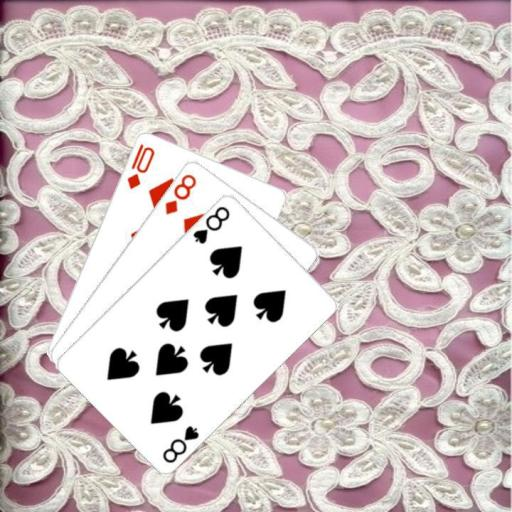10D: (124, 140, 156, 191)
8D: (161, 170, 198, 216)
8S: (189, 203, 231, 245), (160, 422, 201, 464)
